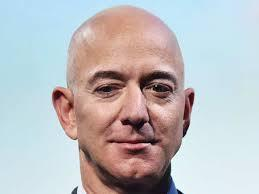Persons: (54, 3, 202, 194)
